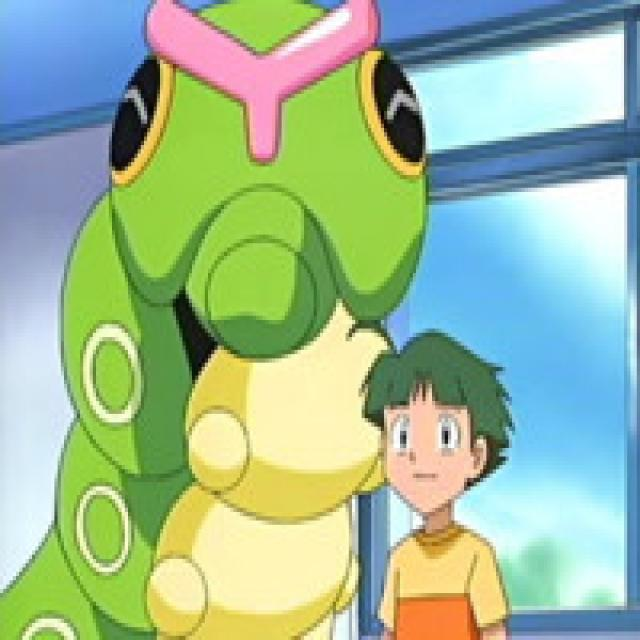Caterpie: (75, 1, 422, 640)
